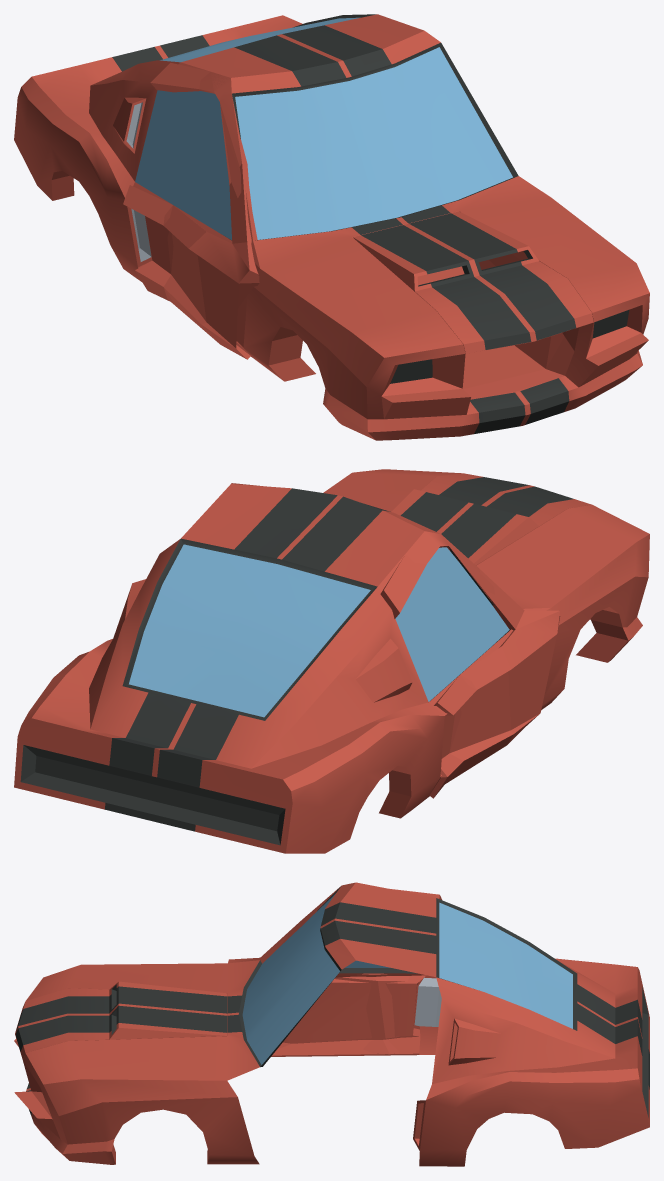
The model's file is macchina_rossa.fbx.
The picture shows the model from 3 angles, top to bottom: view 1: azimuth 30°, elevation 25°; view 2: azimuth 150°, elevation 25°; view 3: azimuth 270°, elevation 25°; orthographic projection. The views are drawn at different scales.
Visible parts, largest first — view 1: scocca_1, cofano_1, porta_rotta_1, porta_nuova_1; view 2: scocca_1, porta_rotta_1, porta_nuova_1, cofano_1; view 3: scocca_1, cofano_1, porta_nuova_1, porta_rotta_1.
Part boxes in pixels (<box>): scocca_1: <box>14,14,649,440</box>; cofano_1: <box>353,211,593,353</box>; porta_rotta_1: <box>123,62,259,359</box>; porta_nuova_1: <box>133,62,259,357</box>; scocca_1: <box>14,469,649,853</box>; porta_rotta_1: <box>380,531,560,798</box>; porta_nuova_1: <box>378,531,551,797</box>; cofano_1: <box>391,473,591,565</box>; scocca_1: <box>14,882,649,1166</box>; cofano_1: <box>15,981,226,1059</box>; porta_nuova_1: <box>260,935,425,1056</box>; porta_rotta_1: <box>228,887,441,1055</box>.
Bounding box in the file's own units: 207 × 141 × 424.
